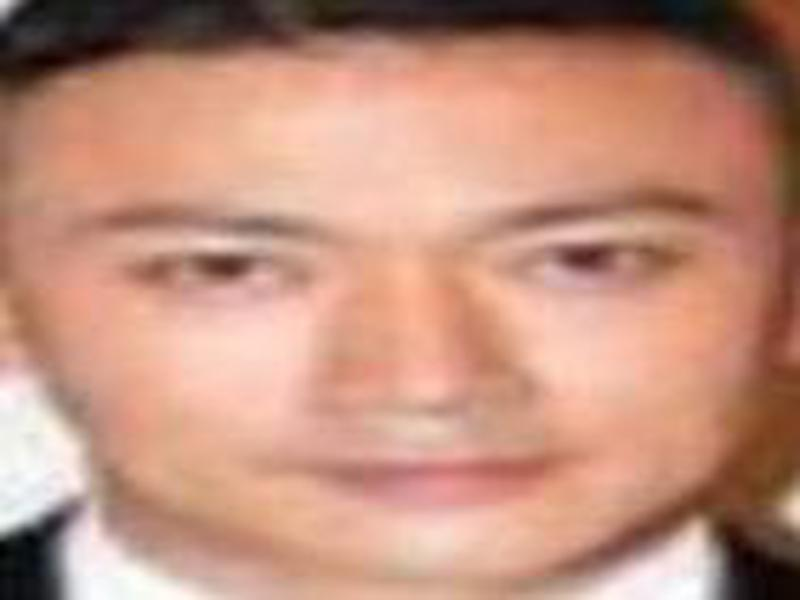without_mask: (4, 27, 785, 591)
